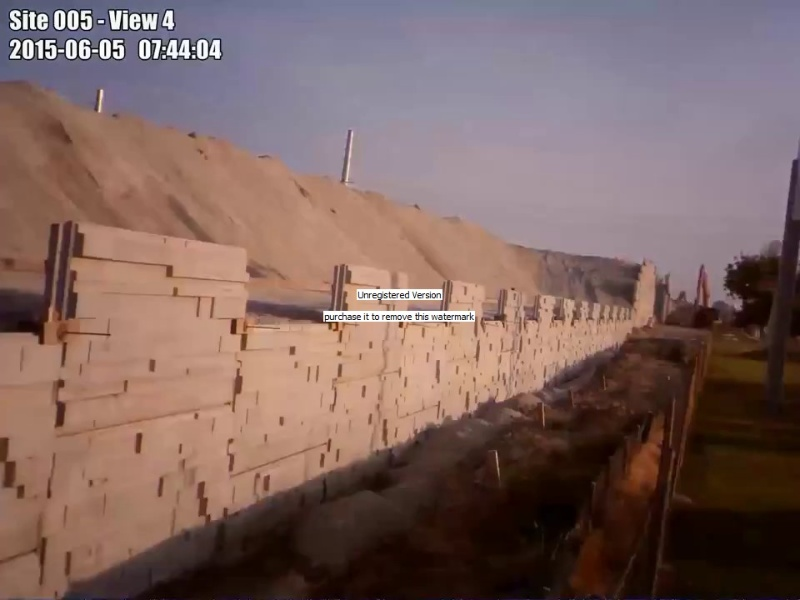columns: (339, 127, 356, 187), (92, 87, 106, 111)
excavator: (687, 263, 723, 332)
wall: (1, 219, 660, 600)
